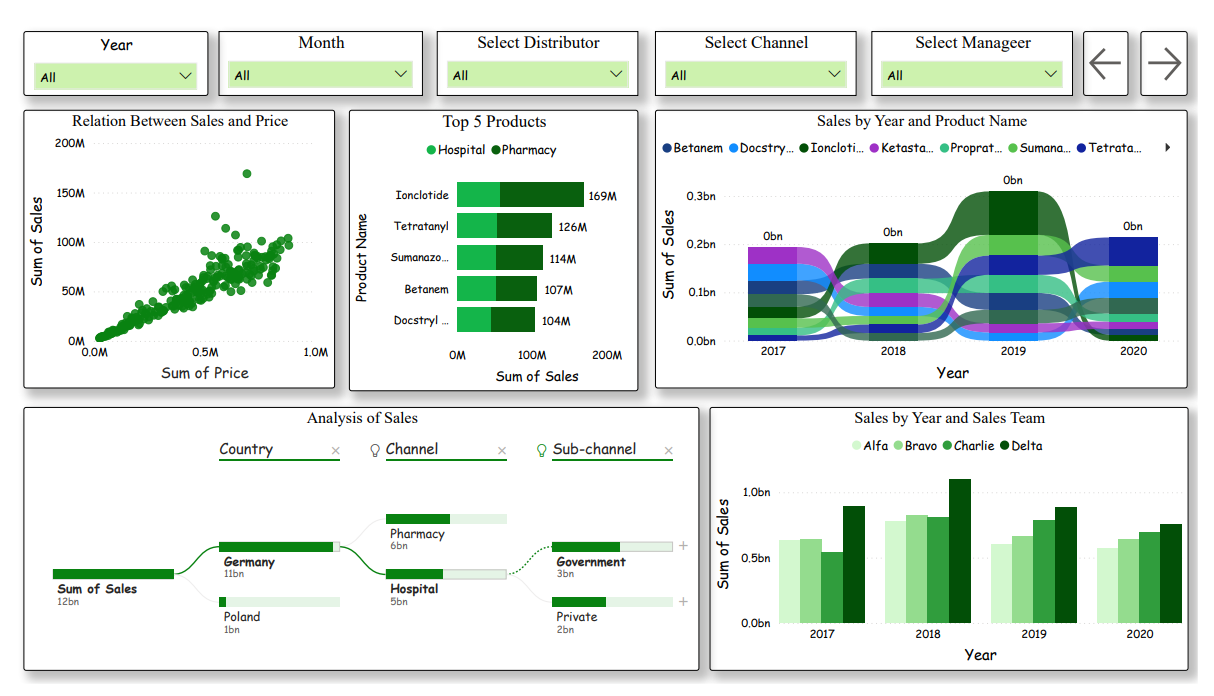

Layout of this report page (visuals, bound fields, positions):
{"tool":"powerbi","page":{"name":"Page 2","canvas":[1280,720],"ordinal":1},"visuals":[{"type":"ribbonChart","title":"Sales by Year and Product Name","fields":{"Y":["Sum(pharma-data.Sales)"],"Series":["pharma-data.Product Name"],"Category":["pharma-data.Year"]},"box":[692.7,99.9,576.5,301.3],"z":0},{"type":"clusteredColumnChart","title":"Sales by Year and Sales Team","fields":{"Y":["Sum(pharma-data.Sales)"],"Category":["pharma-data.Year"],"Series":["pharma-data.Sales Team"]},"box":[752.4,420.8,517.2,284.8],"z":1000},{"type":"scatterChart","title":"Relation Between Sales and Price ","fields":{"Y":["Sum(pharma-data.Sales)"],"X":["Sum(pharma-data.Price)"],"Category":["pharma-data.Product Name"]},"box":[9.8,99.9,337.4,301.3],"z":2000},{"type":"decompositionTreeVisual","title":"Analysis of Sales","fields":{"ExplainBy":["pharma-data.Country","pharma-data.Channel","pharma-data.Sub-channel","pharma-data.Sales Team"],"Analyze":["Sum(pharma-data.Sales)"]},"box":[9.9,420.8,731.1,284.8],"z":3000},{"type":"barChart","title":"Top 5 Products","fields":{"Y":["Sum(pharma-data.Sales)"],"Category":["pharma-data.Product Name"],"Series":["pharma-data.Channel"]},"box":[361.9,99.9,312.8,304.6],"z":4000},{"type":"slicer","title":"Select Distributor","fields":{"Values":["pharma-data.Distributor"]},"box":[456.9,14.7,217.8,70.4],"z":5000},{"type":"slicer","title":"Month","fields":{"Values":["pharma-data.Month"]},"box":[221.1,14.7,221.1,70.4],"z":6000},{"type":"actionButton","box":[1156.2,14.7,49.1,70.4],"z":7000},{"type":"slicer","title":"Year","fields":{"Values":["pharma-data.Year"]},"box":[9.8,14.7,199.8,70.4],"z":8000},{"type":"slicer","title":"Select Channel","fields":{"Values":["pharma-data.Channel"]},"box":[692.7,14.7,217.8,70.4],"z":9000},{"type":"slicer","title":"Select Manageer","fields":{"Values":["pharma-data.Manager"]},"box":[926.9,14.7,217.8,70.4],"z":10000},{"type":"actionButton","box":[1218.4,14.7,50.8,70.4],"z":11000}]}

Visuals, with their boxes in screenshot pixels (x1, y1, x2, y2), scaled from the page's 1280x720 canvas onto the 1214x696 screenshot:
"Sales by Year and Product Name" ribbonChart: locate(657, 97, 1204, 388)
"Sales by Year and Sales Team" clusteredColumnChart: locate(714, 407, 1204, 682)
"Relation Between Sales and Price " scatterChart: locate(9, 97, 329, 388)
"Analysis of Sales" decompositionTreeVisual: locate(9, 407, 703, 682)
"Top 5 Products" barChart: locate(343, 97, 640, 391)
"Select Distributor" slicer: locate(433, 14, 640, 82)
"Month" slicer: locate(210, 14, 419, 82)
actionButton: locate(1097, 14, 1143, 82)
"Year" slicer: locate(9, 14, 199, 82)
"Select Channel" slicer: locate(657, 14, 864, 82)
"Select Manageer" slicer: locate(879, 14, 1086, 82)
actionButton: locate(1156, 14, 1204, 82)
